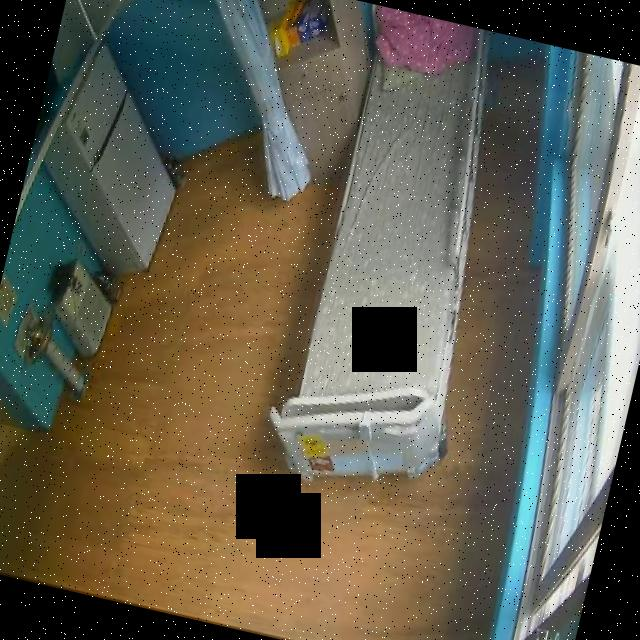bed: (257, 4, 533, 506)
